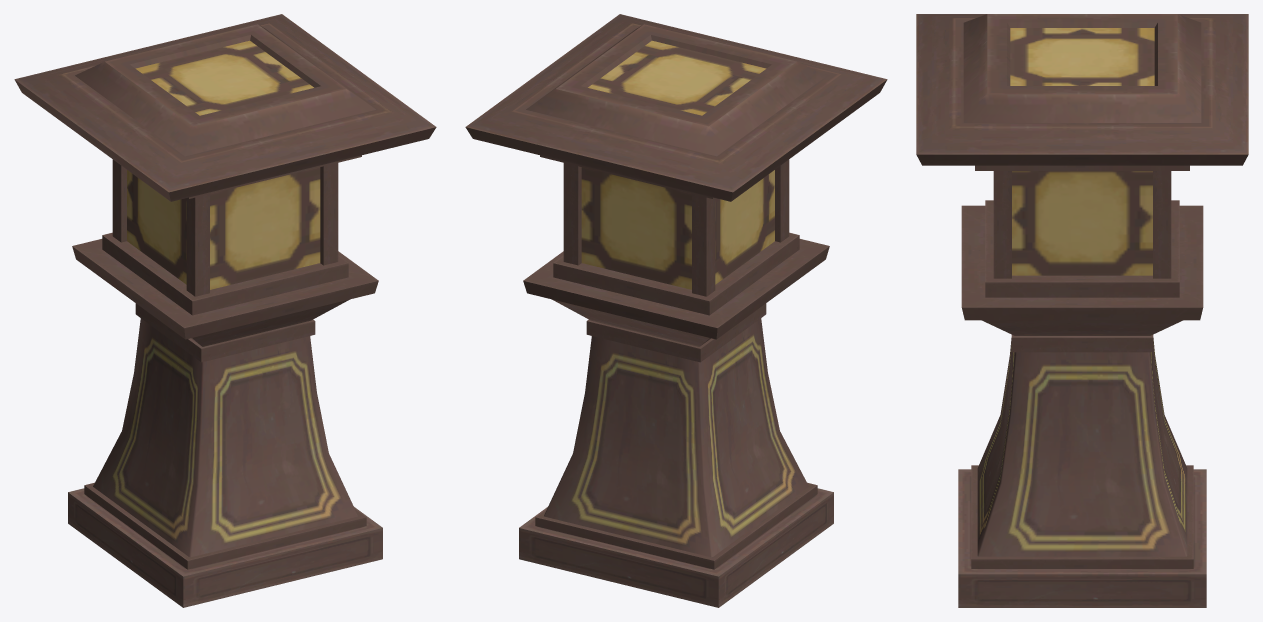
File: Homeworld_Exterior_Ly_Lamp_Lamp_10_Vo.fbx
3 views of the same model, side by side, from view 1: azimuth 30°, elevation 25°; view 2: azimuth 150°, elevation 25°; view 3: azimuth 270°, elevation 25° (orthographic). The views are drawn at different scales.
Visible parts, largest first — view 1: Area_Ly_Light_LYG_Common_Lamp_03_Vo; view 2: Area_Ly_Light_LYG_Common_Lamp_03_Vo; view 3: Area_Ly_Light_LYG_Common_Lamp_03_Vo.
Boxes of the visible parts, <box> form: Area_Ly_Light_LYG_Common_Lamp_03_Vo: <box>14,14,436,607</box>; Area_Ly_Light_LYG_Common_Lamp_03_Vo: <box>465,14,887,607</box>; Area_Ly_Light_LYG_Common_Lamp_03_Vo: <box>916,14,1248,607</box>.
Size of the model in its own units: 0.7249 by 1.21 by 0.7249.
